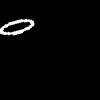chain: (0, 19, 33, 34)
